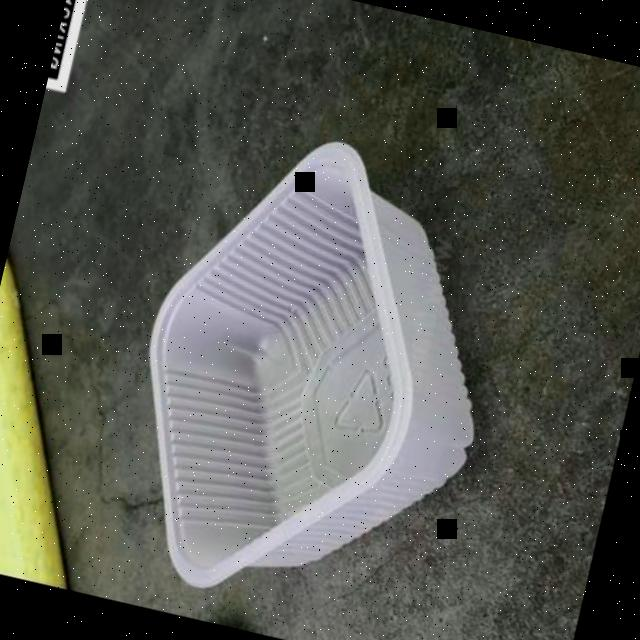plastic_box: (95, 106, 532, 638)
